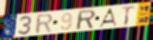3: (17, 15, 34, 36)
9: (60, 11, 75, 31)
A: (97, 7, 117, 28)
R: (76, 9, 97, 31), (35, 13, 54, 35)
T: (121, 5, 136, 26)
